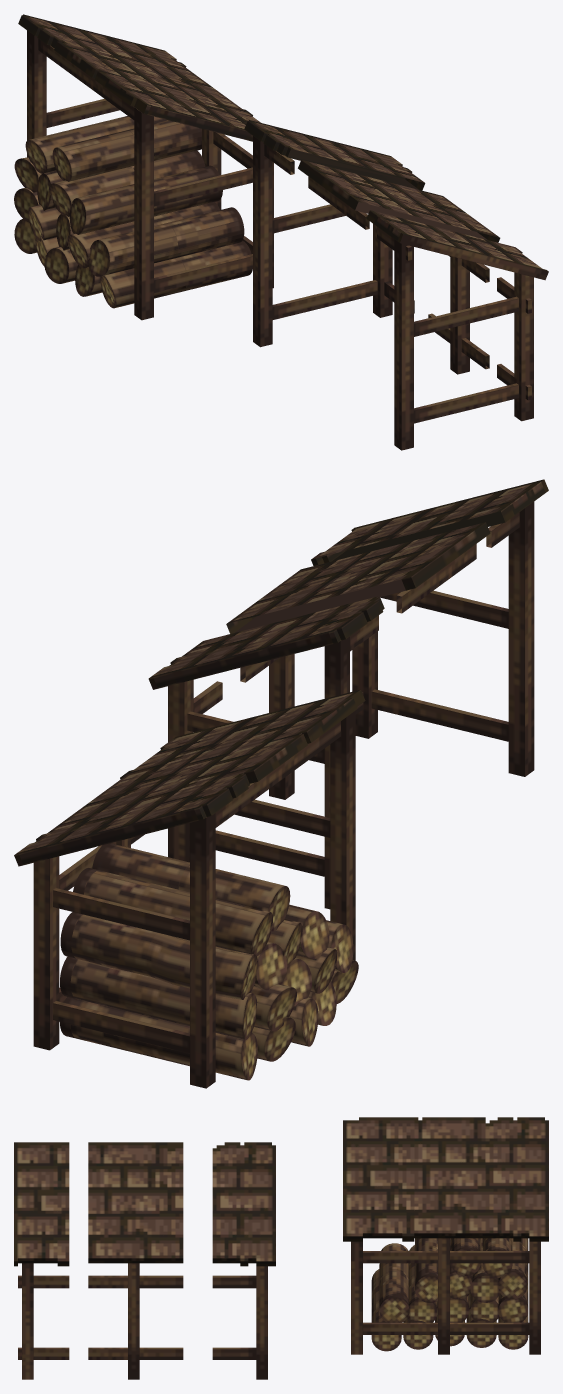
Rendered from ObjMD_Woodput_A.FBX.
3 renders of one model, top to bottom at view 1: azimuth 30°, elevation 25°; view 2: azimuth 150°, elevation 25°; view 3: azimuth 270°, elevation 25°, orthographic. The views are drawn at different scales.
Parts seen in each view (by area): view 1: ObjMD_Woodput_A, ObjMD_Woodput_A_root_end, ObjMD_Woodput_A_root_st, ObjMD_Woodput_A_root_lp; view 2: ObjMD_Woodput_A, ObjMD_Woodput_A_root_end, ObjMD_Woodput_A_root_st, ObjMD_Woodput_A_root_lp; view 3: ObjMD_Woodput_A, ObjMD_Woodput_A_root_lp, ObjMD_Woodput_A_root_st, ObjMD_Woodput_A_root_end.
Boxes of the visible parts, x1,y1,x2,y2 form: ObjMD_Woodput_A: [14, 14, 273, 320]; ObjMD_Woodput_A_root_end: [366, 210, 548, 450]; ObjMD_Woodput_A_root_st: [244, 120, 425, 347]; ObjMD_Woodput_A_root_lp: [298, 160, 500, 374]; ObjMD_Woodput_A: [14, 689, 365, 1088]; ObjMD_Woodput_A_root_end: [311, 479, 548, 776]; ObjMD_Woodput_A_root_st: [148, 596, 384, 909]; ObjMD_Woodput_A_root_lp: [226, 522, 490, 799]; ObjMD_Woodput_A: [343, 1117, 548, 1354]; ObjMD_Woodput_A_root_lp: [88, 1142, 183, 1379]; ObjMD_Woodput_A_root_st: [212, 1142, 275, 1379]; ObjMD_Woodput_A_root_end: [14, 1142, 69, 1379].
Size of the model in its own units: 352 by 318 by 844.
